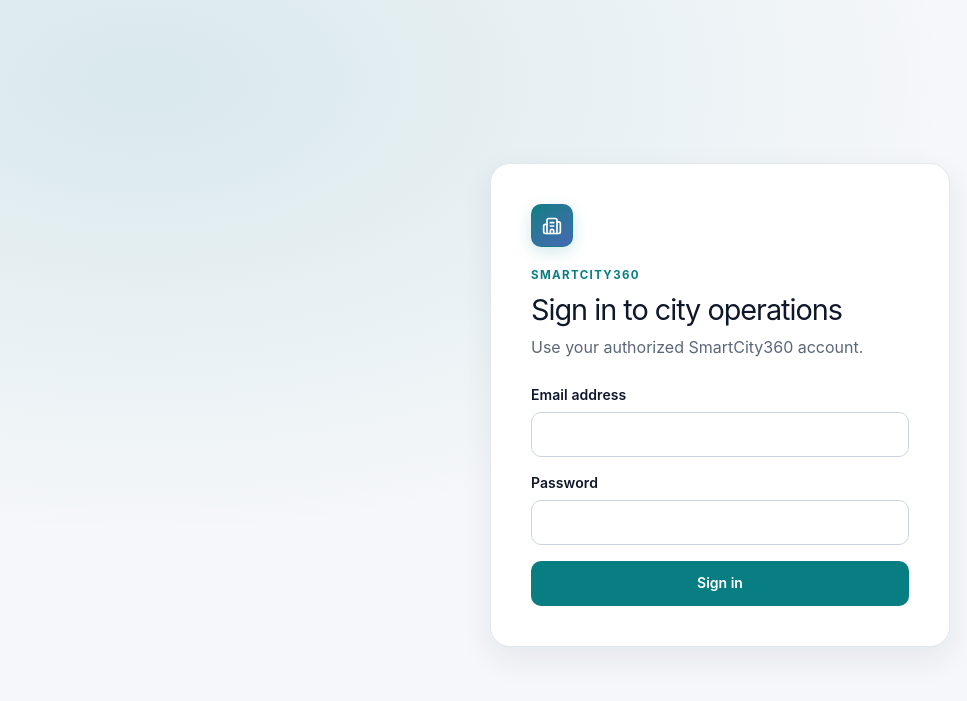
Test: LoginPage › shows a generic message for a rejected login without revealing account existence
Expected: the button "Sign in" is shown, [531, 561, 909, 606]
Step 1. Type "unknown@example.test" into the field labelled "Email address" → x=720, y=434, box [531, 412, 909, 457]
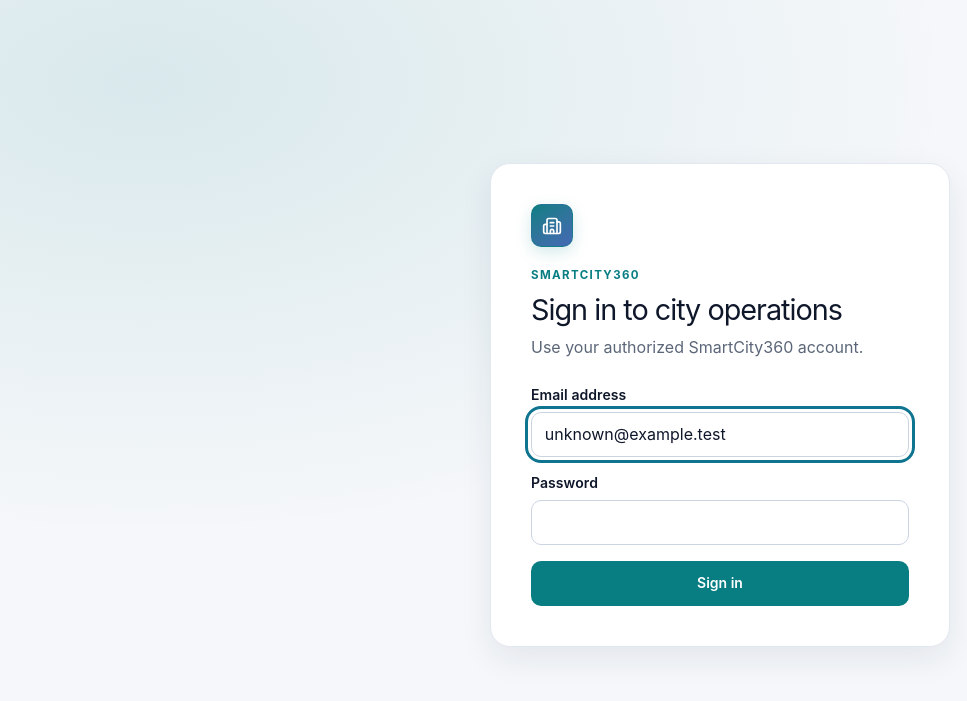
Step 2. Type "not-the-password" into the password field labelled "Password" → x=720, y=522, box [531, 500, 909, 545]
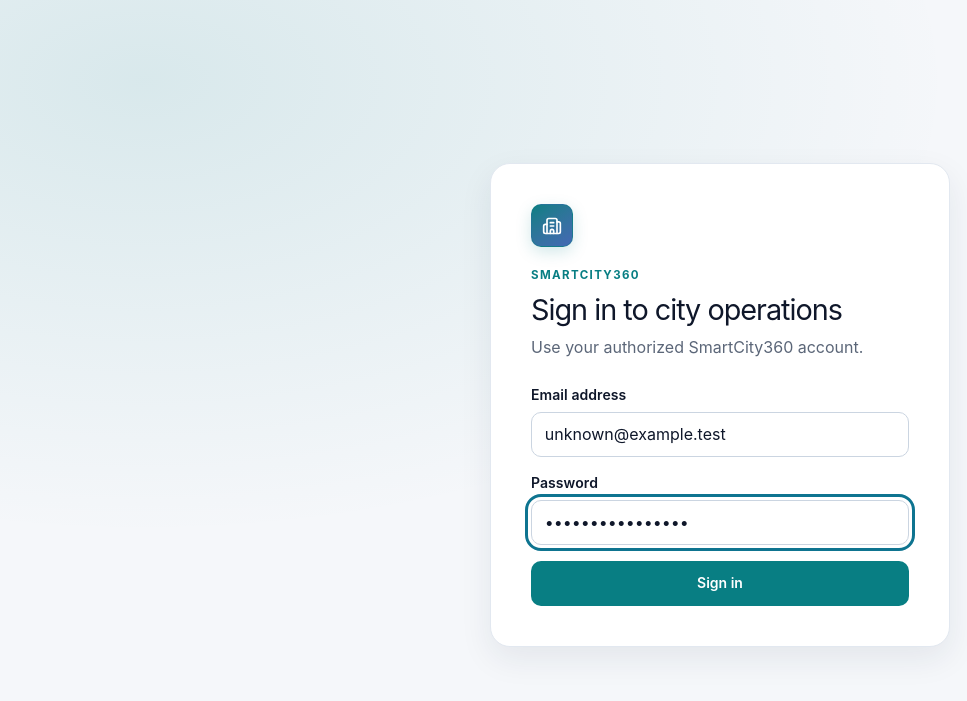
Step 3. Click the button "Sign in" → x=720, y=583, box [531, 561, 909, 606]
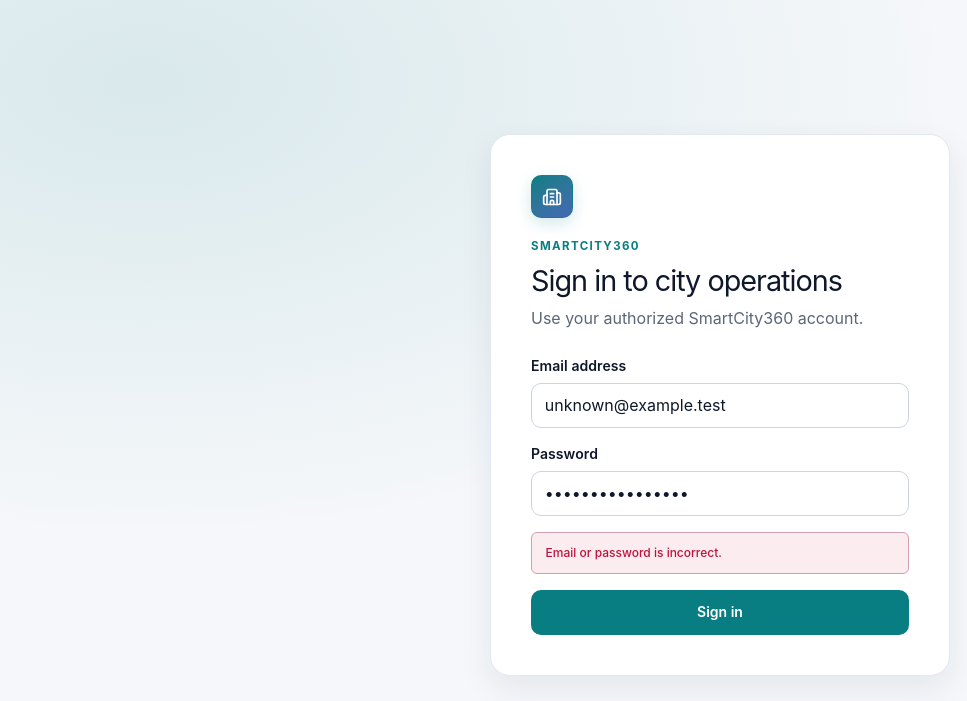
Expected: the message does not show "unknown", [531, 532, 909, 574]
Now the message reads "Email or password is incorrect.", box [546, 545, 722, 560]
